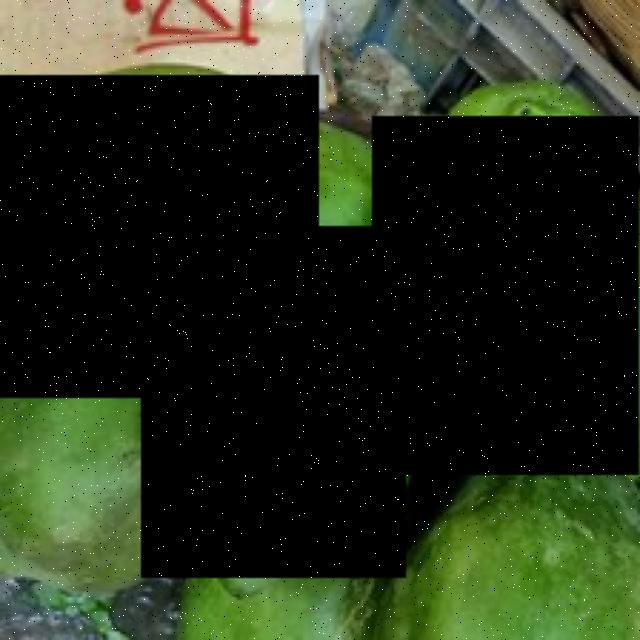Papaya: (0, 75, 319, 398), (373, 117, 640, 476), (142, 227, 406, 579)
